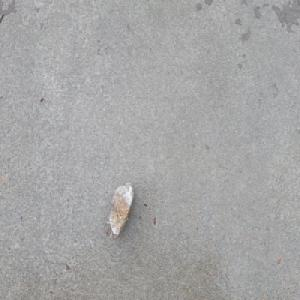Rock: (107, 182, 135, 239)
